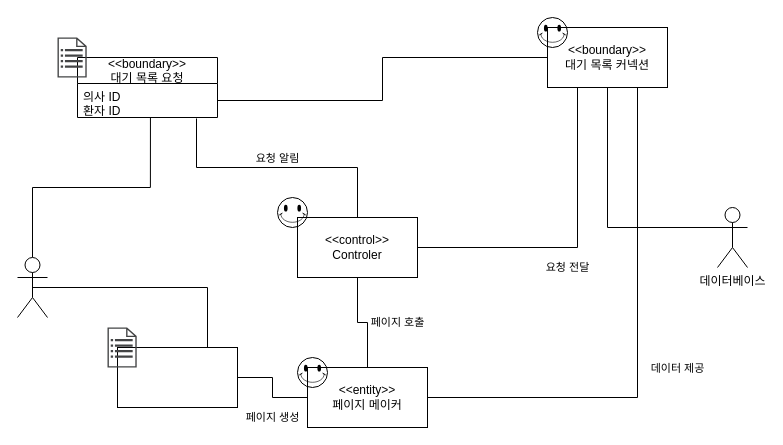
The diagram is 783 pixels wide and 445 high, and some of its shapes have lost their labels. The box of each missing label's shape, as (x1, y1, x2, y2) in pixels:
<<boundary>> 인터페이스 페이지: (116, 346, 238, 408)
의사: (16, 256, 48, 318)
